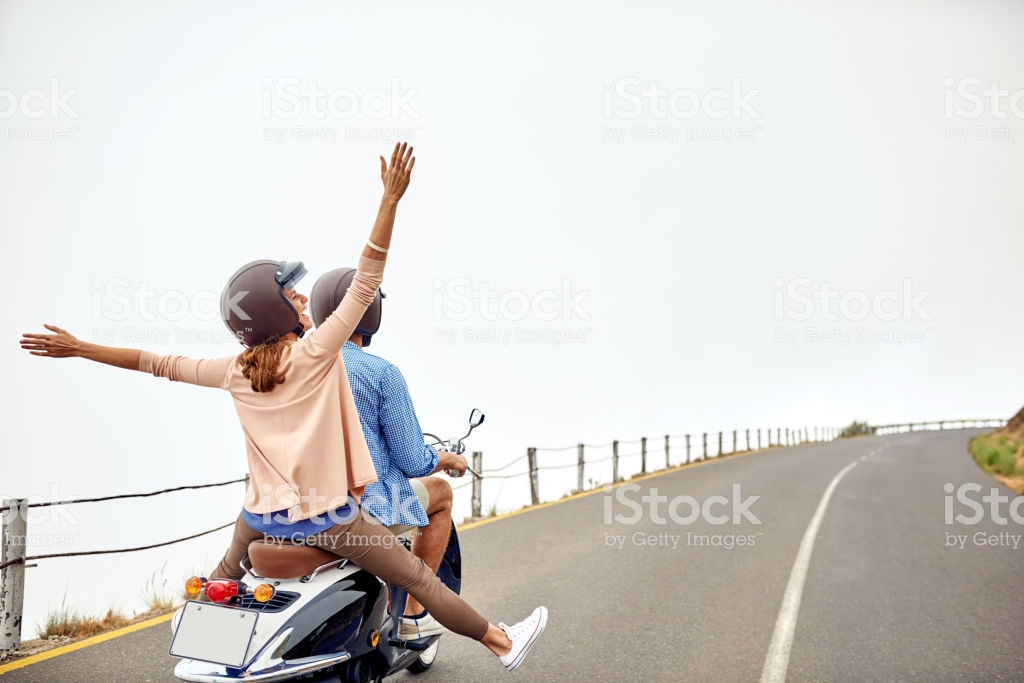helmet: (218, 266, 287, 339)
